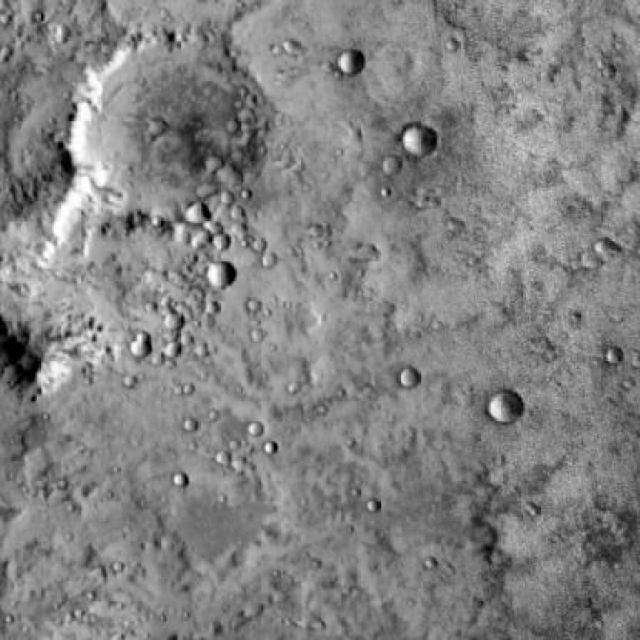crater: (50, 38, 259, 233), (400, 126, 435, 160), (488, 392, 522, 423), (206, 261, 237, 290), (342, 50, 366, 72), (188, 204, 209, 224), (399, 368, 419, 388), (598, 238, 618, 257), (133, 336, 153, 355), (143, 118, 163, 136), (212, 234, 230, 252), (581, 252, 599, 270), (379, 156, 398, 173), (280, 37, 298, 54), (606, 346, 625, 362), (165, 316, 184, 332), (205, 156, 224, 172), (192, 233, 208, 250), (262, 441, 278, 457)
